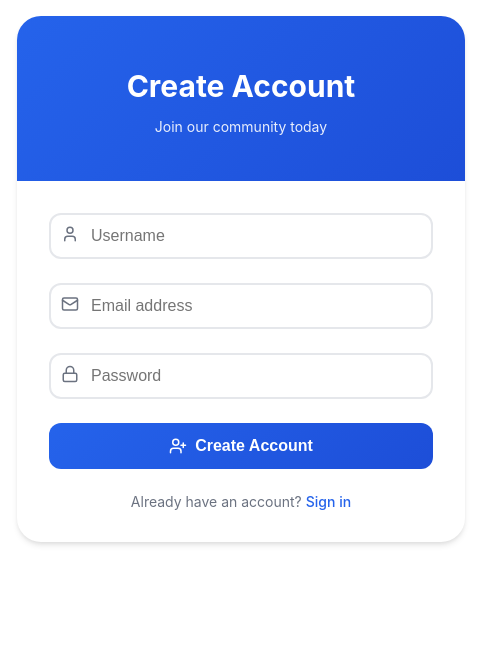
Scenario: Register Component › shows validation errors for incorrect inputs
The width and height of the screenshot is (483, 662).
Type "ab" into the field with placeholder "Username". click: (241, 236)
box: [49,213,433,259]
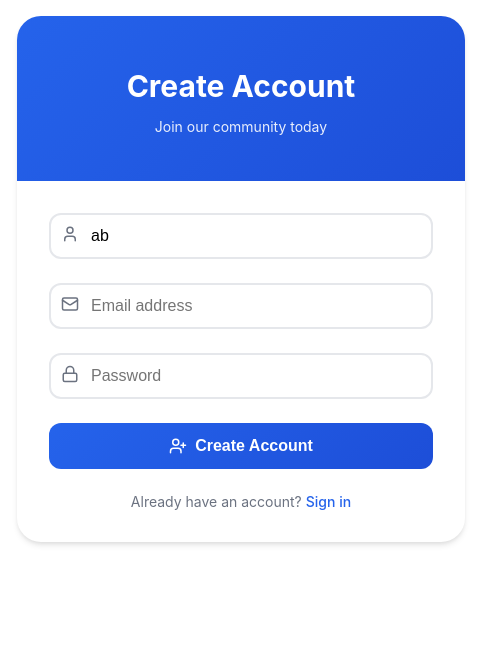
Type "invalid@email" into the field with placeholder "Email address". click: (241, 306)
box: [49,283,433,329]
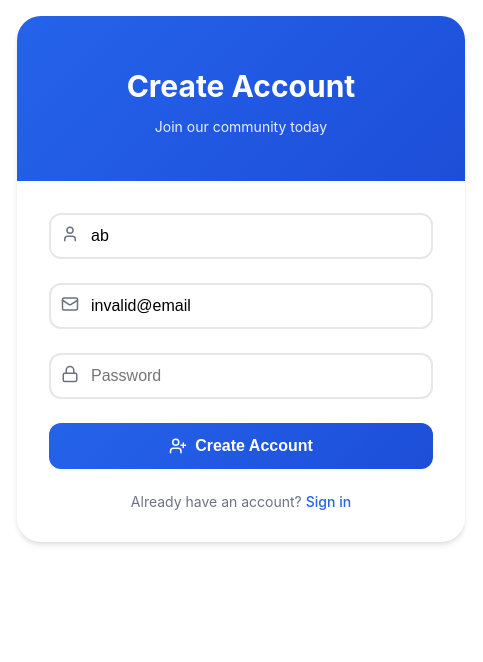
Type "12345" into the password field with placeholder "Password". click: (241, 376)
box: [49,353,433,399]
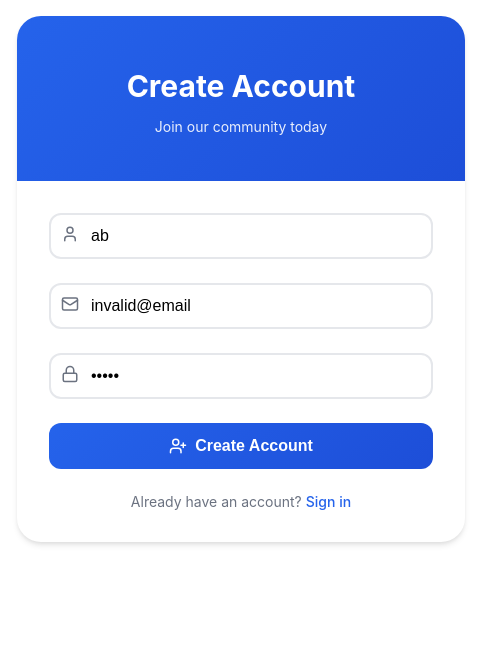
Click the button with test id "create-account-btn". click: (241, 446)
box: [49,423,433,469]
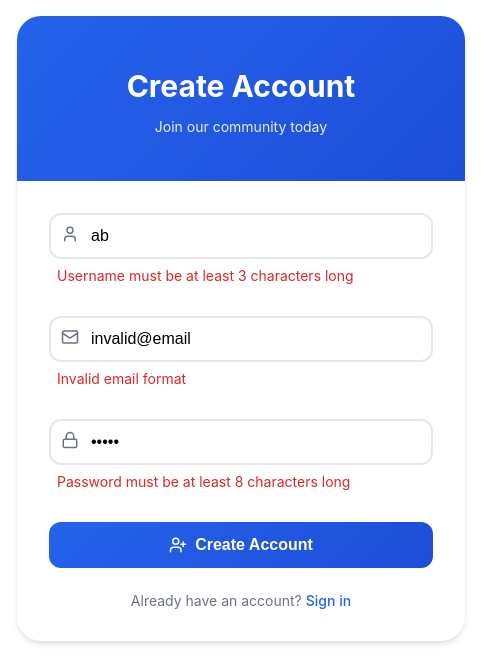
Expected: the text "Username must be at least 3 characters long" is shown, [57,267,354,284]
Expected: the text "Invalid email format" is shown, [57,370,186,387]
Expected: the text "Password must be at least 8 characters long" is shown, [57,473,350,490]
